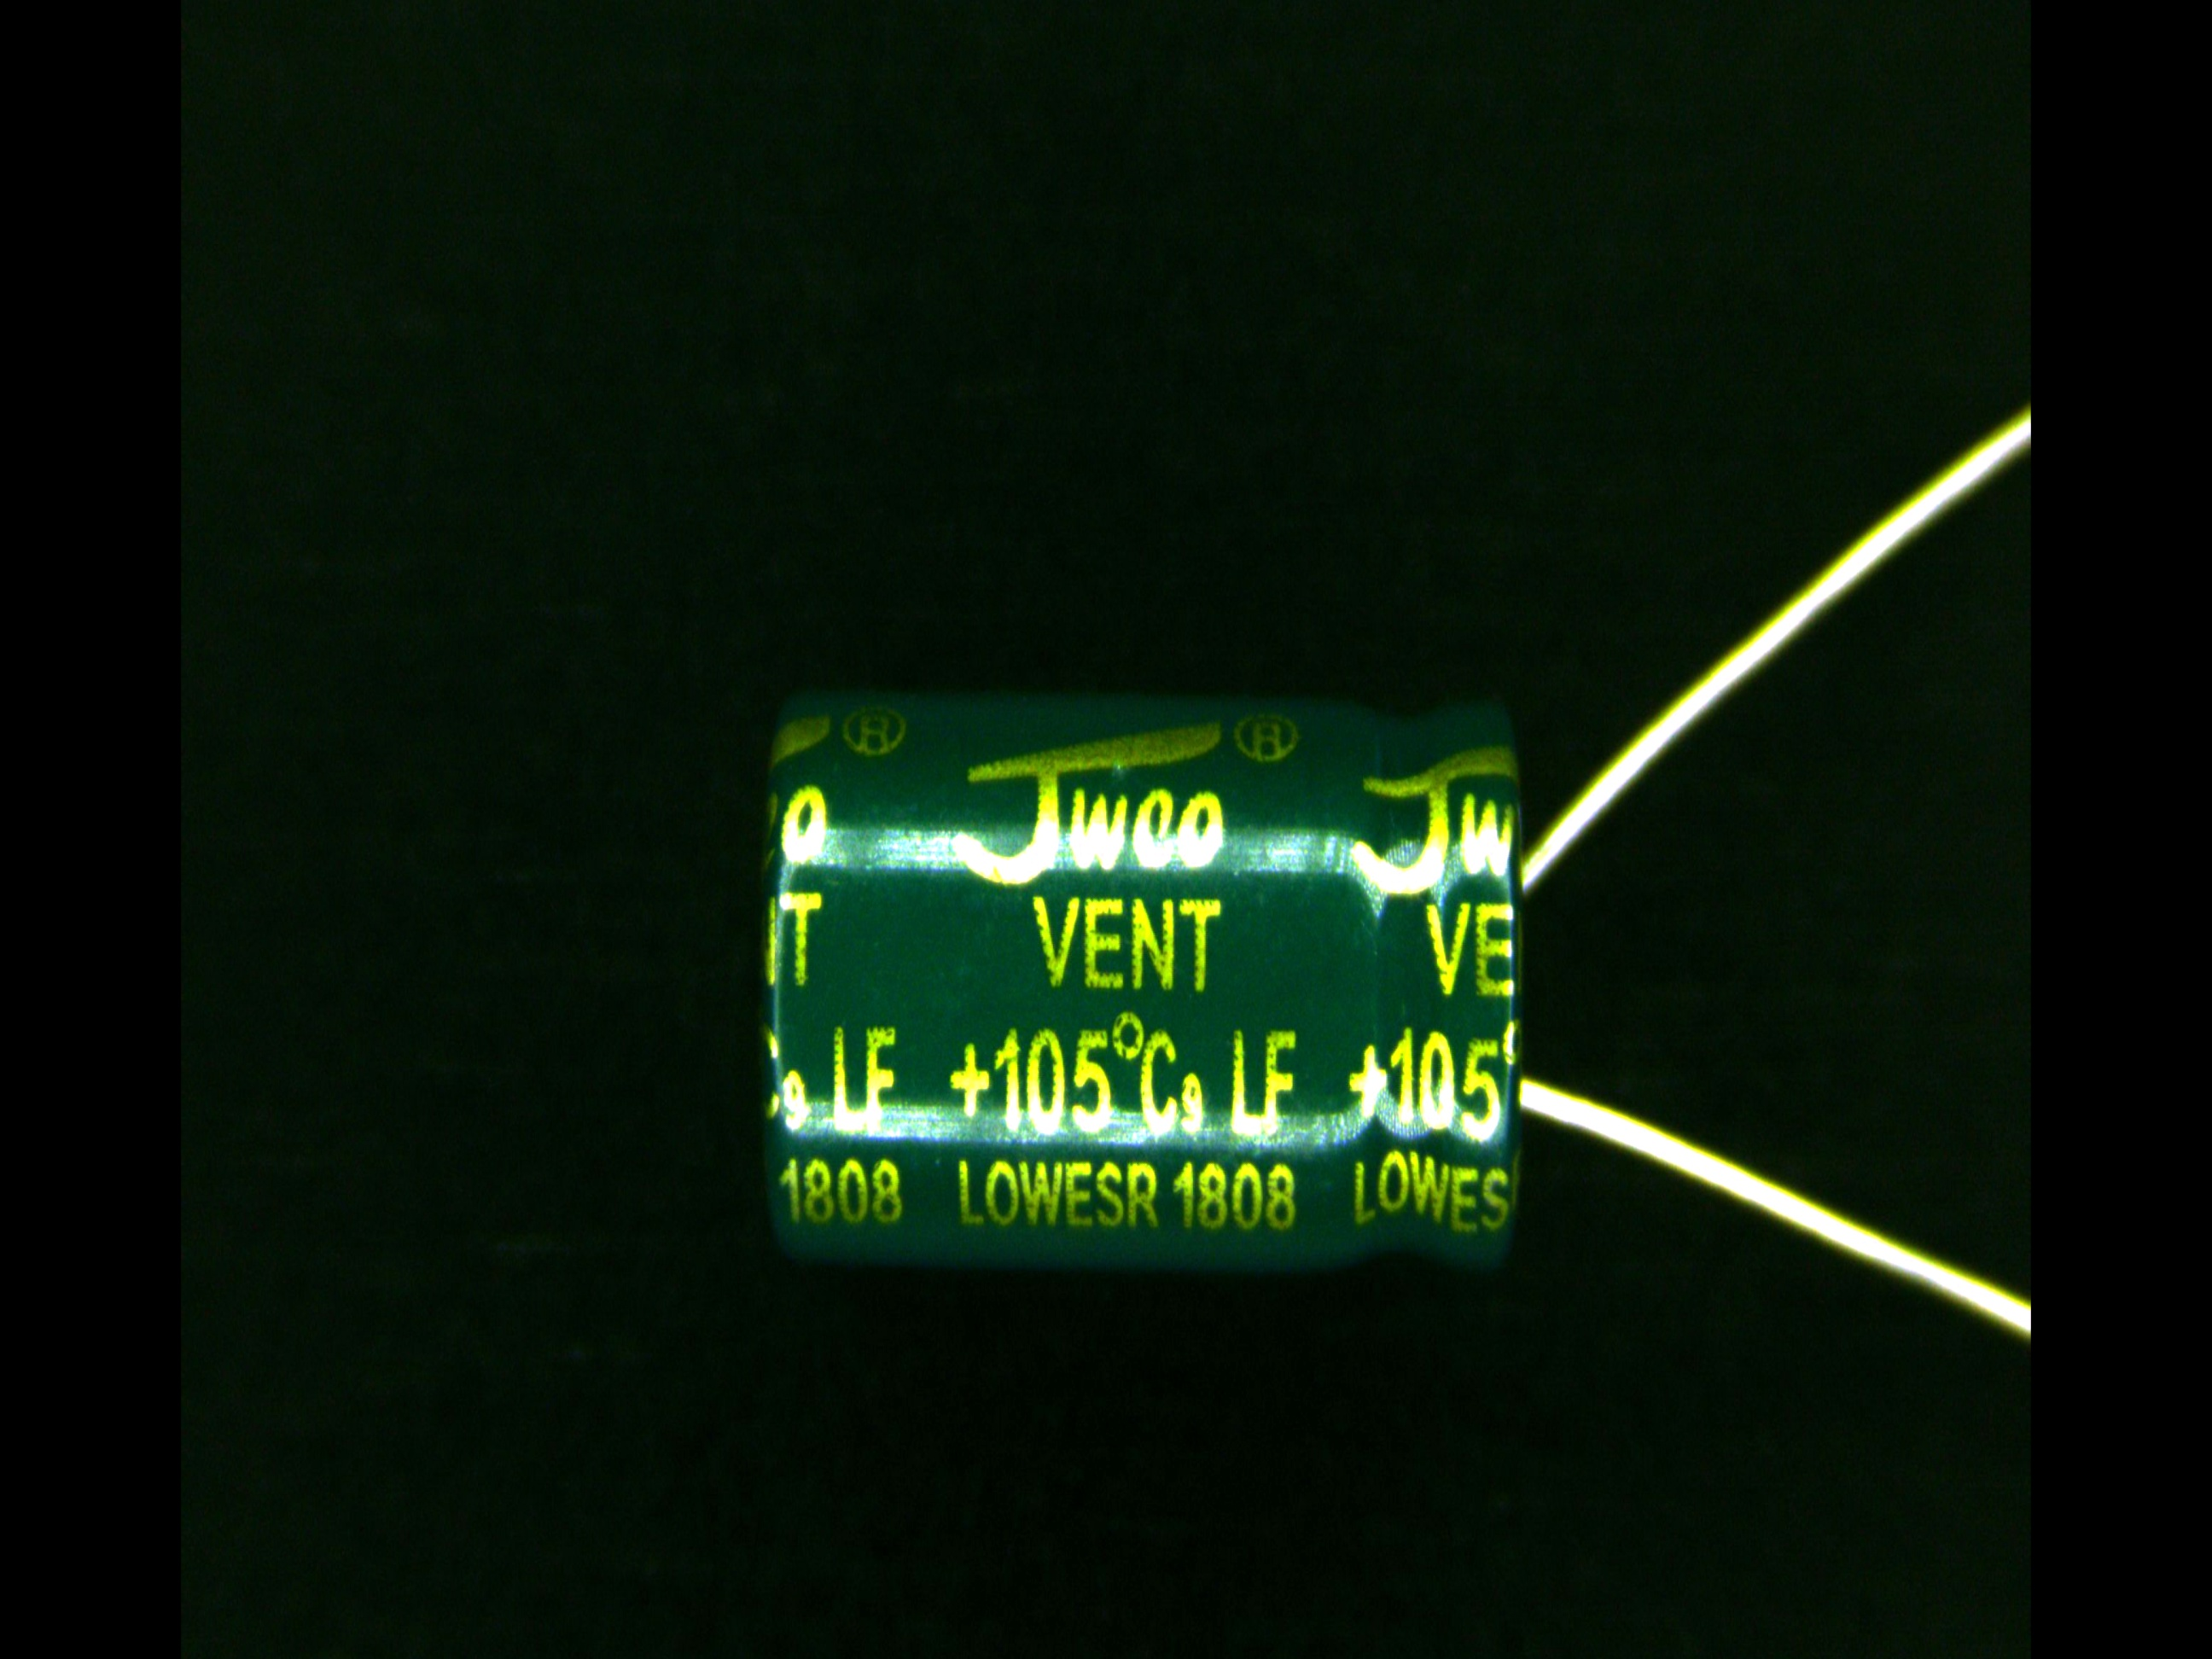c1: (763, 687, 1677, 1291)
